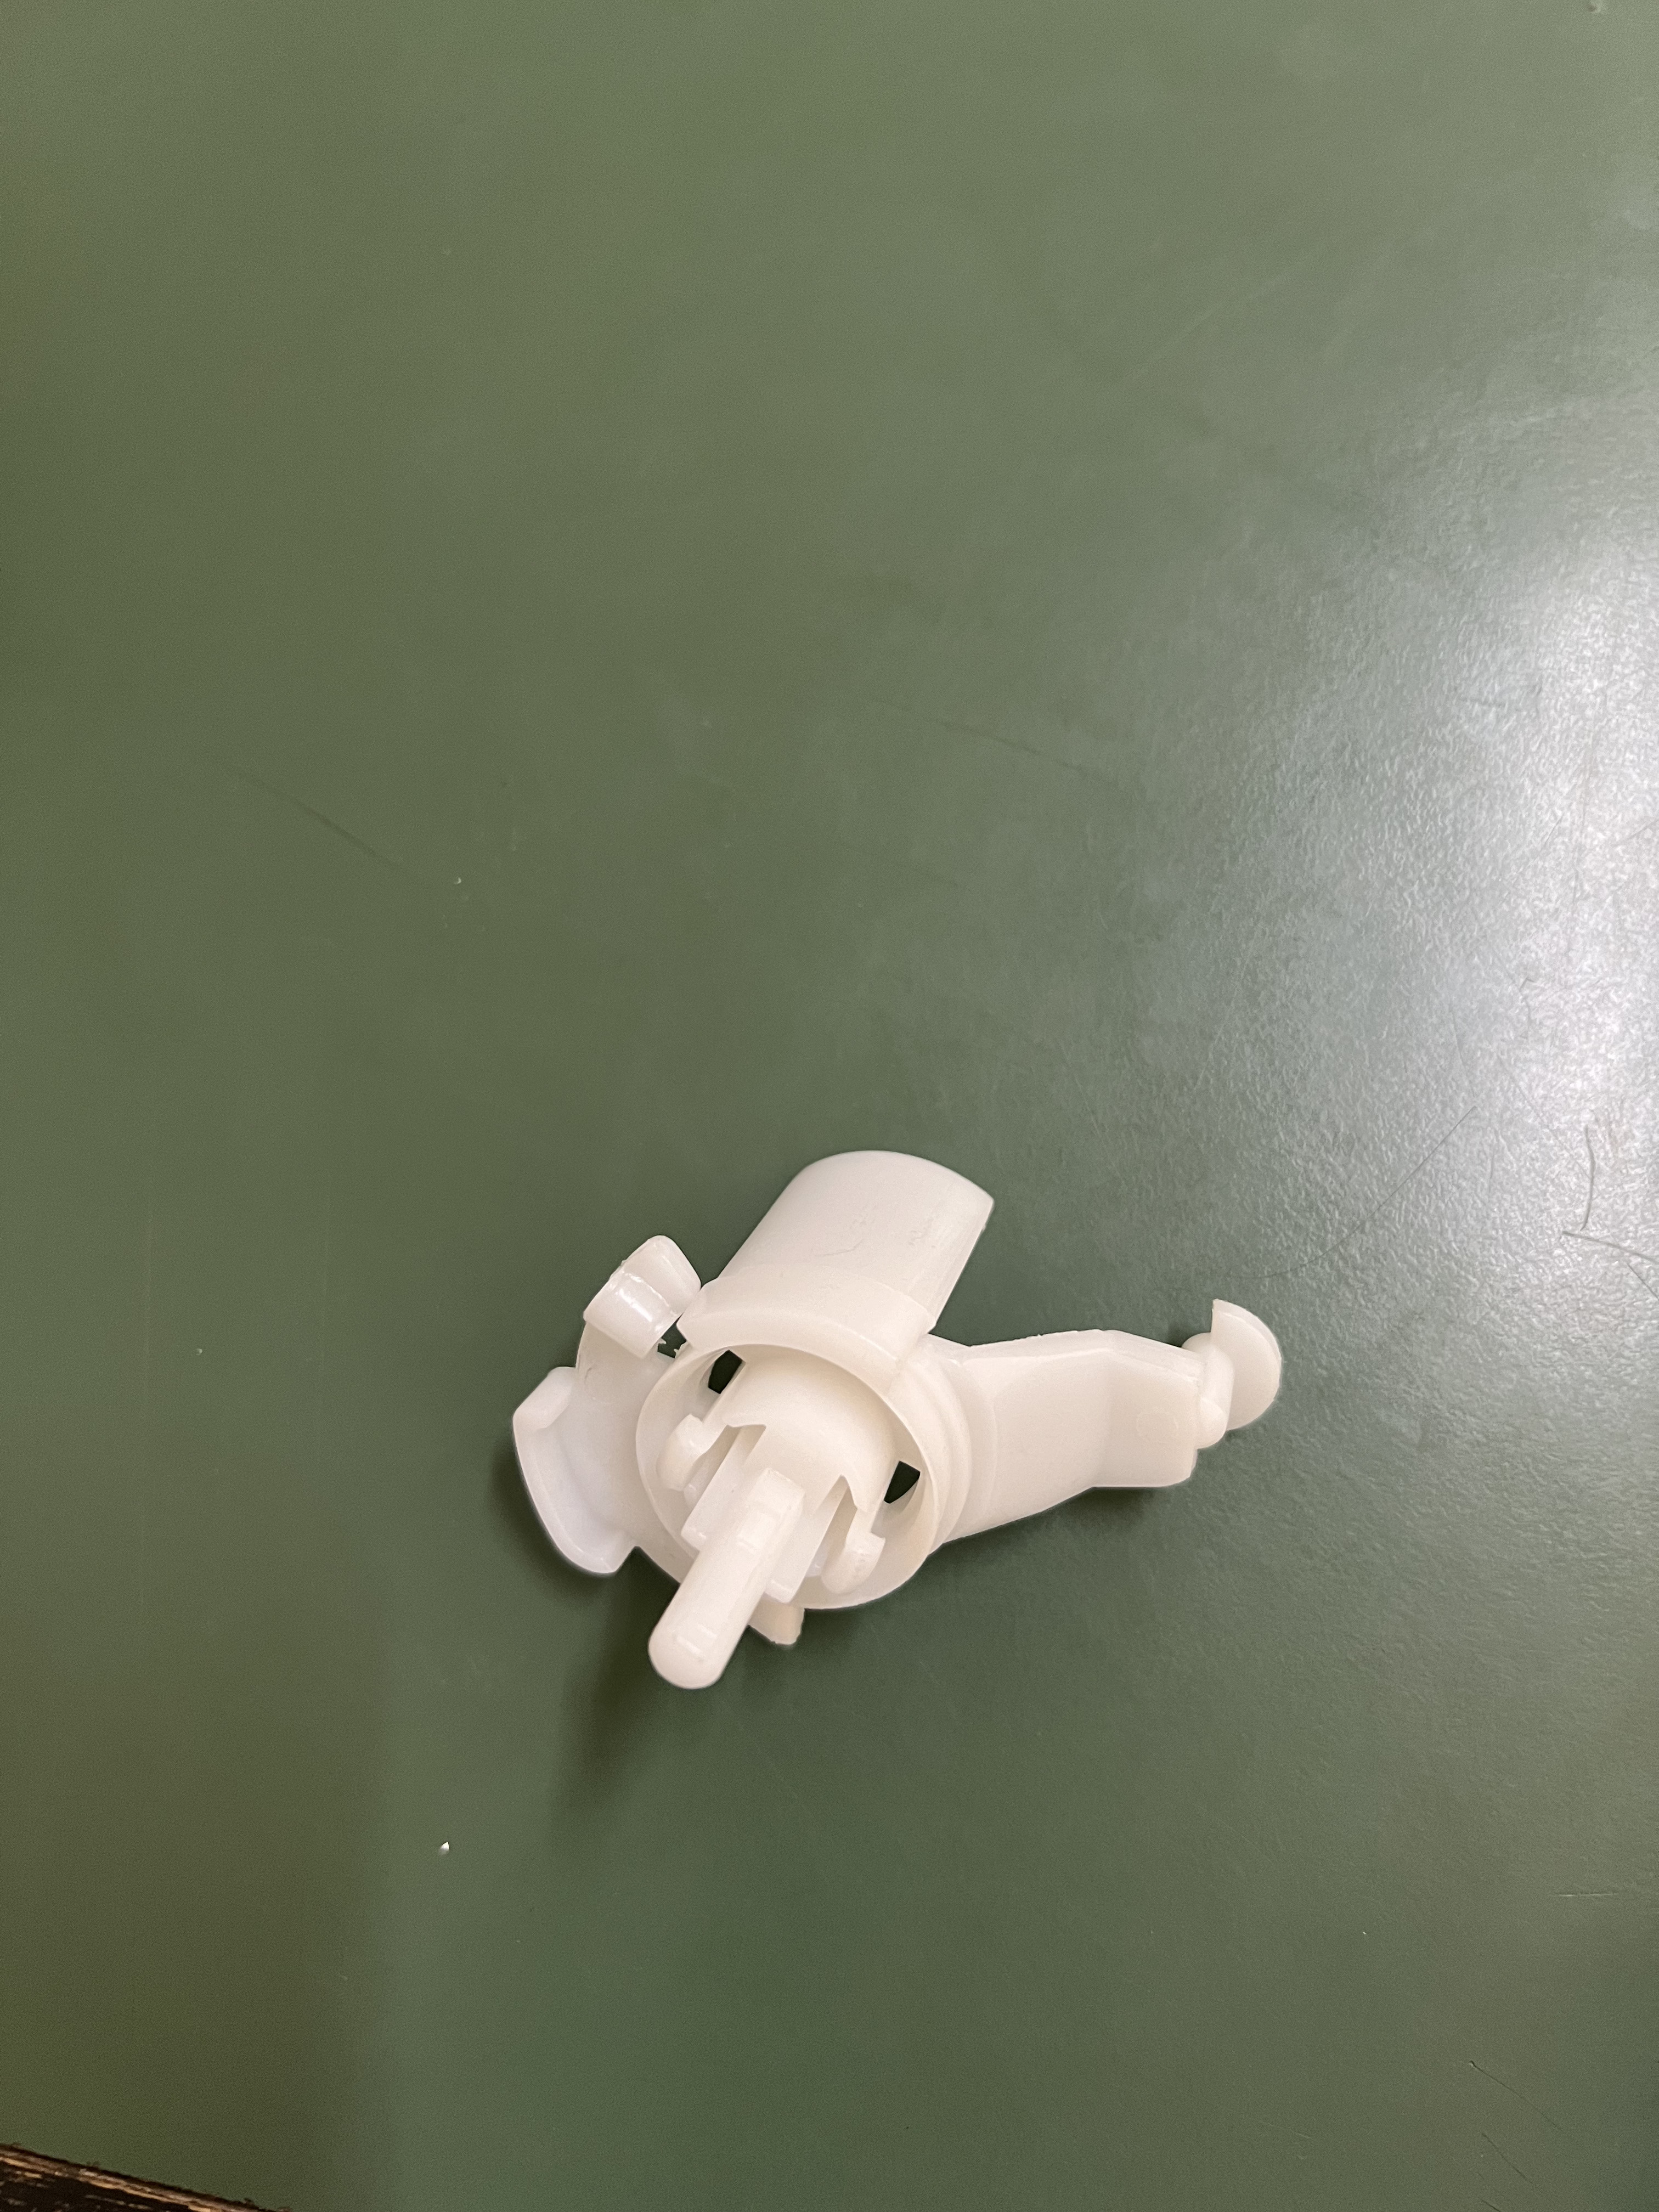drain_lever: (490, 1155, 1313, 1716)
